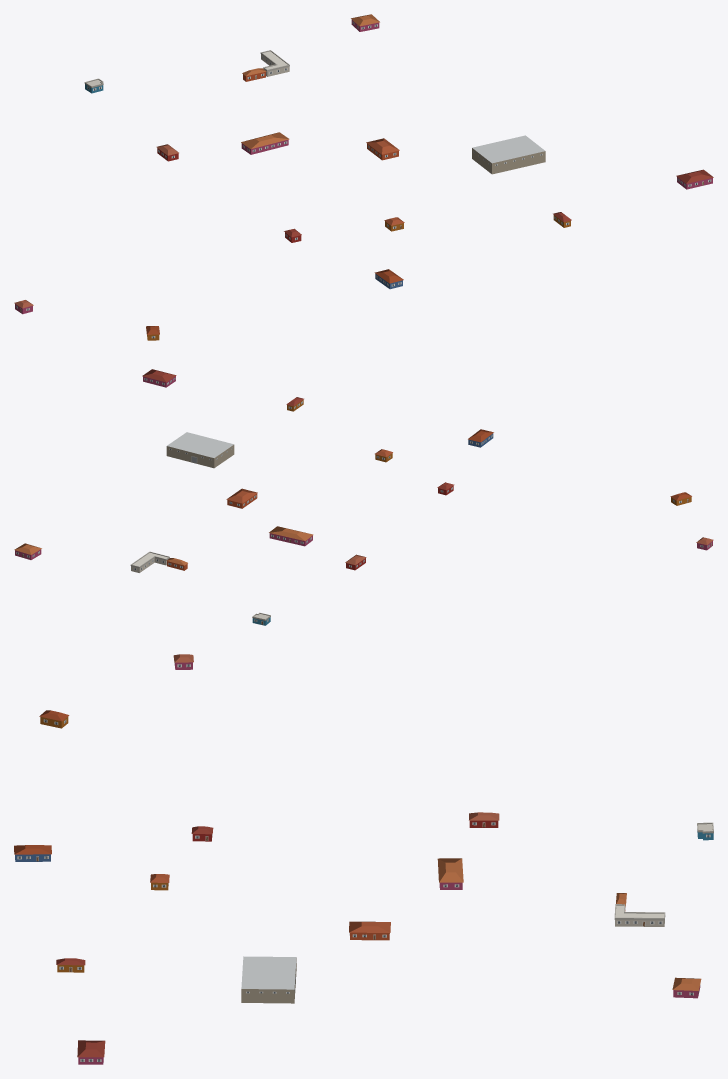
The model's file is msb_sannicolas_14_21.glb.
3 renders of one model, top to bottom at view 1: azimuth 30°, elevation 25°; view 2: azimuth 150°, elevation 25°; view 3: azimuth 270°, elevation 25°, orthographic. The views are drawn at different scales.
Parts seen in each view (by area): view 1: msb_sannicolas_14_21_lod0; view 2: msb_sannicolas_14_21_lod0; view 3: msb_sannicolas_14_21_lod0.
Boxes of the visible parts, x1,y1,x2,y2 form: msb_sannicolas_14_21_lod0: [14, 14, 713, 340]; msb_sannicolas_14_21_lod0: [14, 369, 713, 625]; msb_sannicolas_14_21_lod0: [14, 654, 713, 1064].
Size of what is drawn, in the model's own units: 389 by 12.57 by 286.
3 materials, 1 textured.
